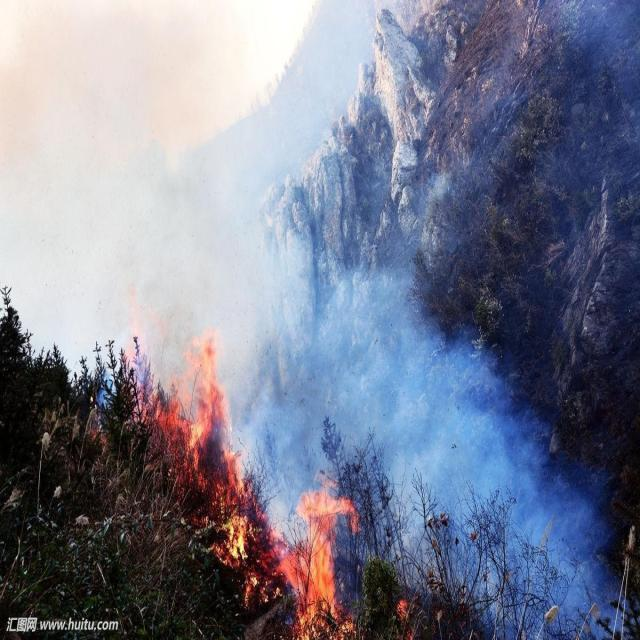Fire: (120, 315, 362, 640), (394, 597, 416, 640)
Smoke: (0, 1, 640, 640)
